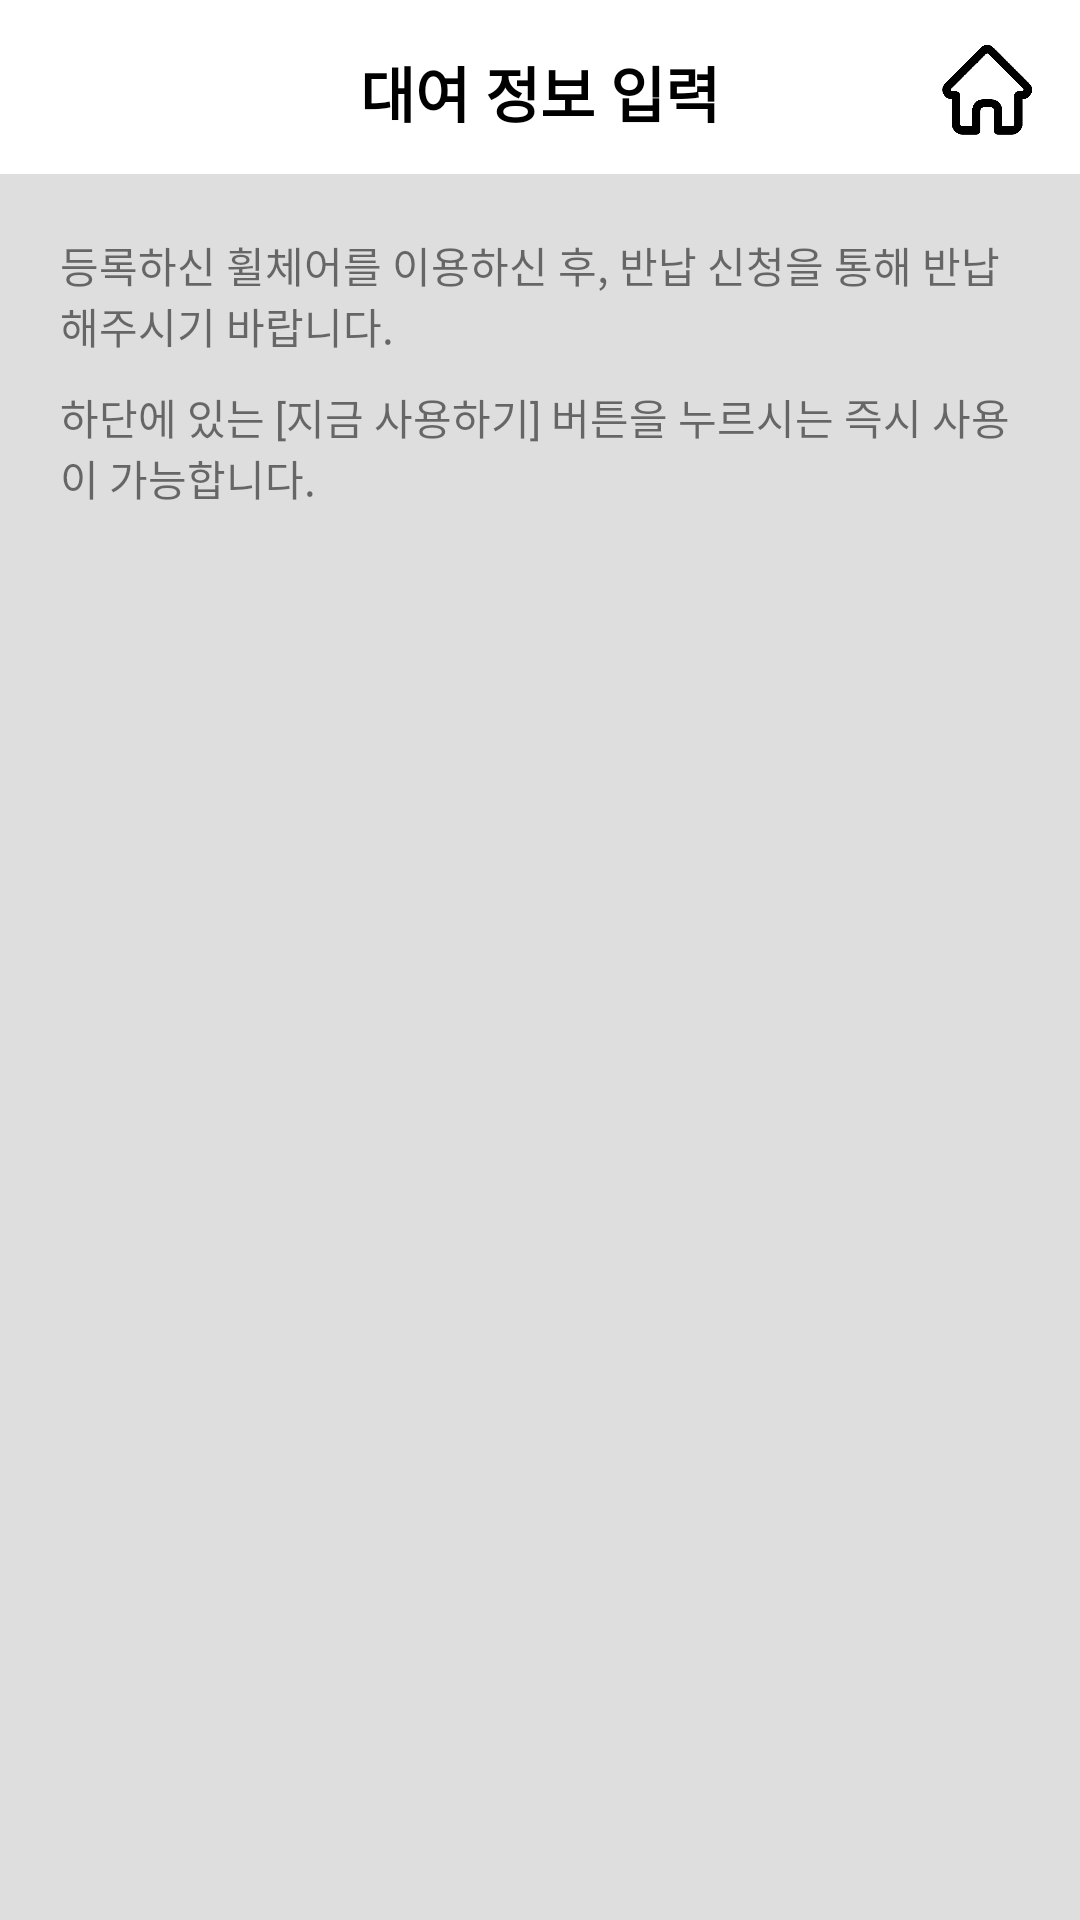

Icon bounding boxes for this 1080px×1920px phone screenshot, format (x1, y1, x2, y2):
home: (942, 45, 1032, 135)
